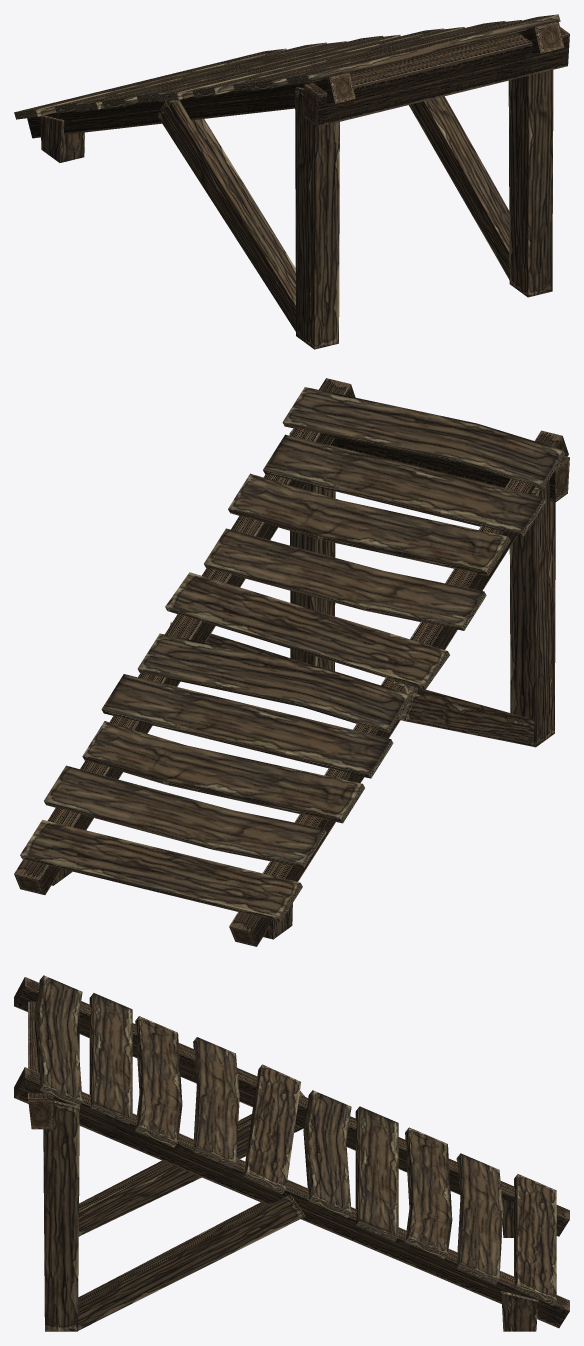
The model's file is Wood_Ramp_03.fbx.
3 renders of one model, top to bottom at view 1: azimuth 30°, elevation 25°; view 2: azimuth 150°, elevation 25°; view 3: azimuth 270°, elevation 25°, orthographic. The views are drawn at different scales.
Visible parts, largest first — view 1: Wood_Ramp_03; view 2: Wood_Ramp_03; view 3: Wood_Ramp_03.
Part boxes in pixels (x1,y1,x2,y2): Wood_Ramp_03: (14,14,569,349); Wood_Ramp_03: (14,378,569,946); Wood_Ramp_03: (14,975,569,1331).
Bounding box in the file's own units: 3.93 × 4 × 8.
